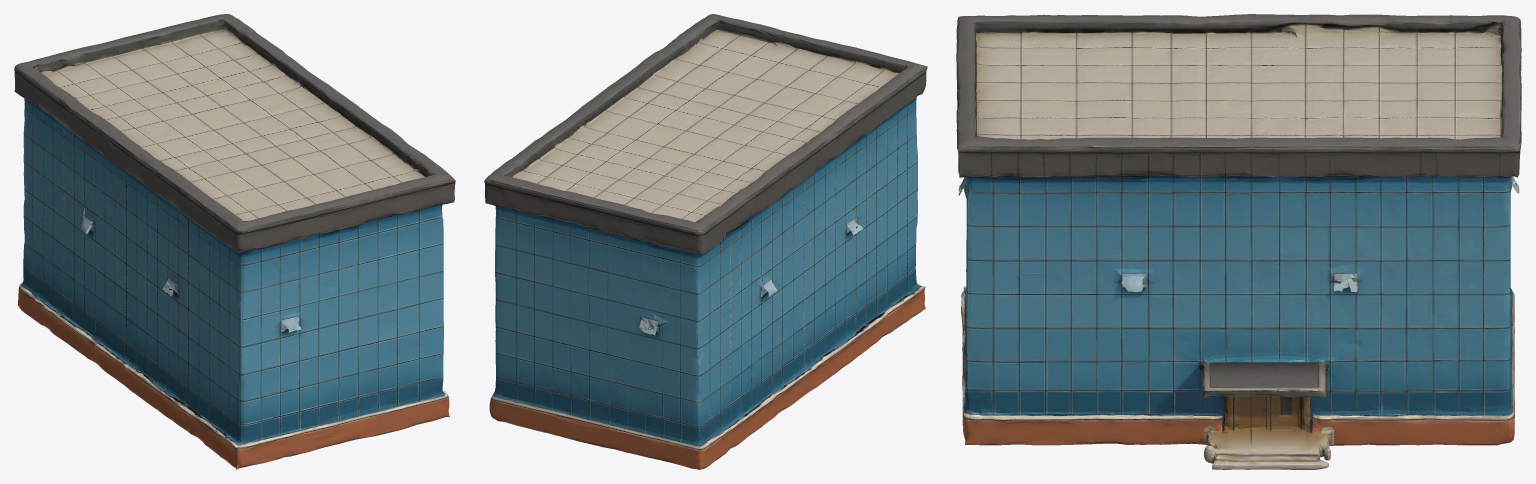
Rendered from Scolor_front.glb.
3 views of the same model, side by side, from view 1: azimuth 30°, elevation 25°; view 2: azimuth 150°, elevation 25°; view 3: azimuth 270°, elevation 25° (orthographic). The views are drawn at different scales.
Visible parts, largest first — view 1: tripo_node_0915c3c8-24d7-49c8-b6cb-8a13a2c0ed3f; view 2: tripo_node_0915c3c8-24d7-49c8-b6cb-8a13a2c0ed3f; view 3: tripo_node_0915c3c8-24d7-49c8-b6cb-8a13a2c0ed3f.
Part boxes in pixels (<box>): tripo_node_0915c3c8-24d7-49c8-b6cb-8a13a2c0ed3f: <box>14,14,455,469</box>; tripo_node_0915c3c8-24d7-49c8-b6cb-8a13a2c0ed3f: <box>484,14,927,469</box>; tripo_node_0915c3c8-24d7-49c8-b6cb-8a13a2c0ed3f: <box>956,14,1521,469</box>.
Bounding box in the file's own units: 0.6595 × 0.5912 × 0.9993.
1 material, 1 textured.
